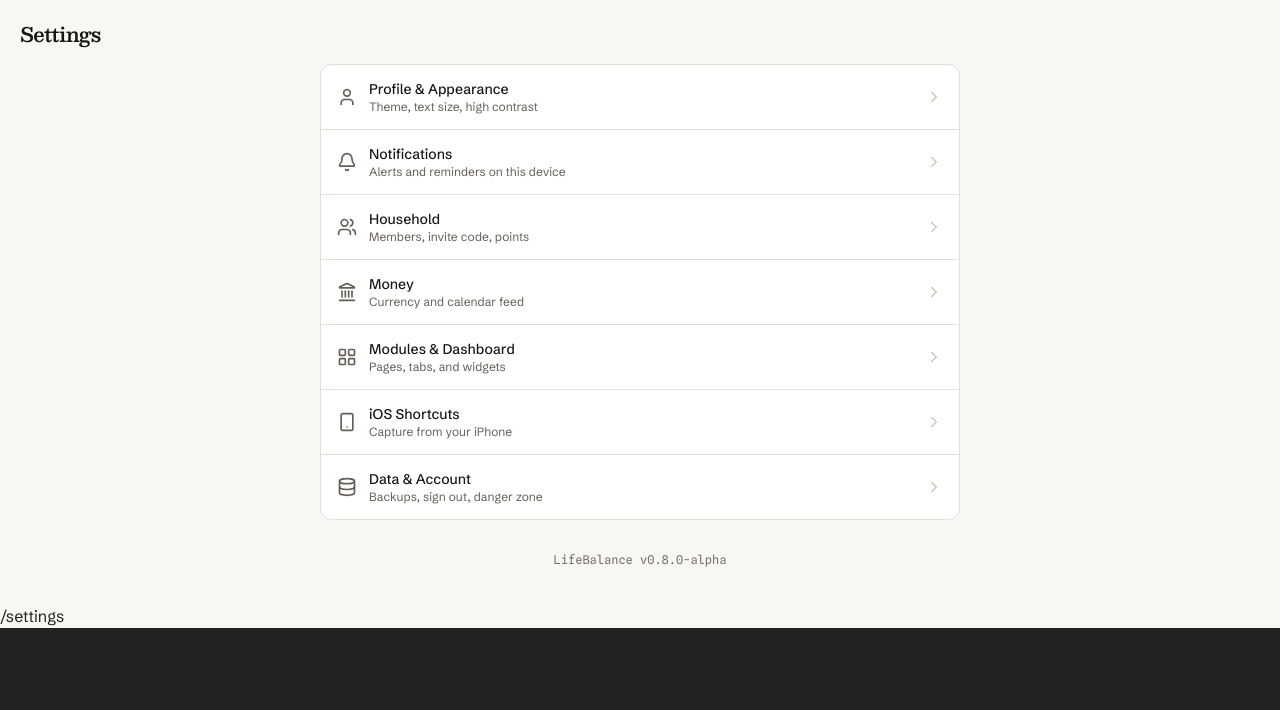
Test case: Settings index + sub-screens › moves focus to the sub-screen heading on push
Step 1. Click the text "Modules & Dashboard" → coordinates (442, 349), box [369, 340, 515, 358]
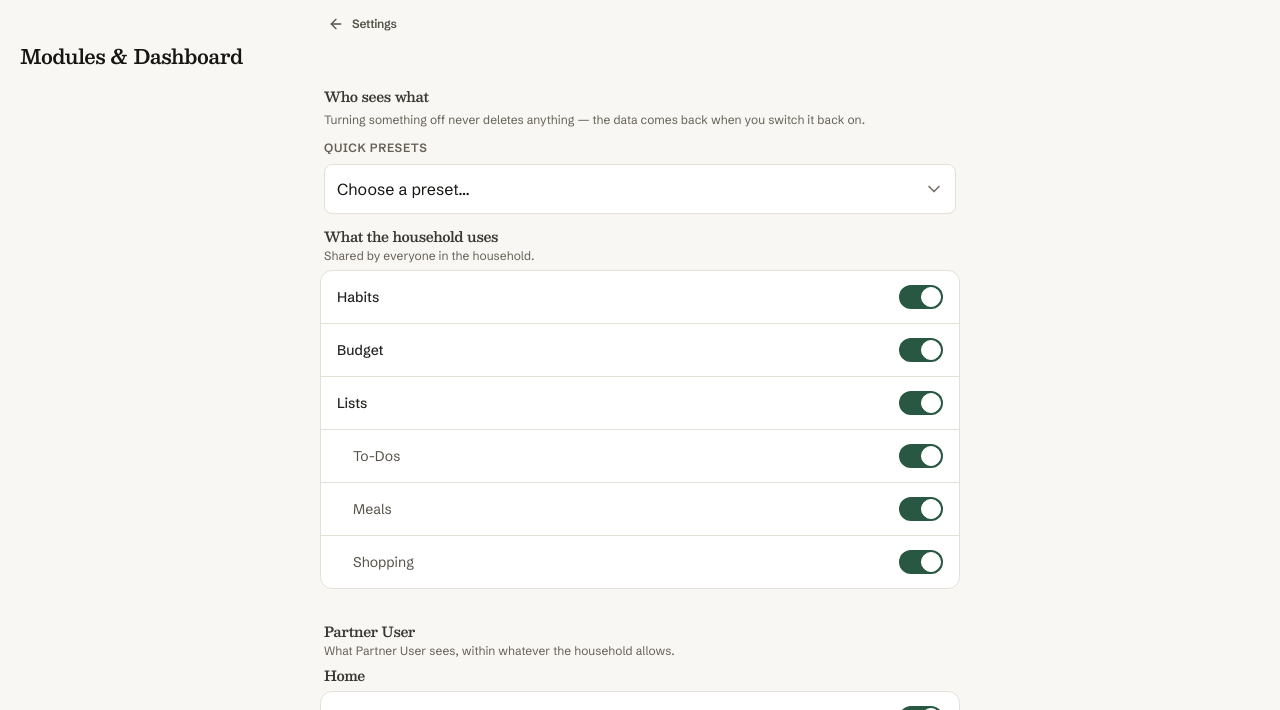
Expected: the heading "Modules & Dashboard" is shown, [20, 42, 243, 70]
